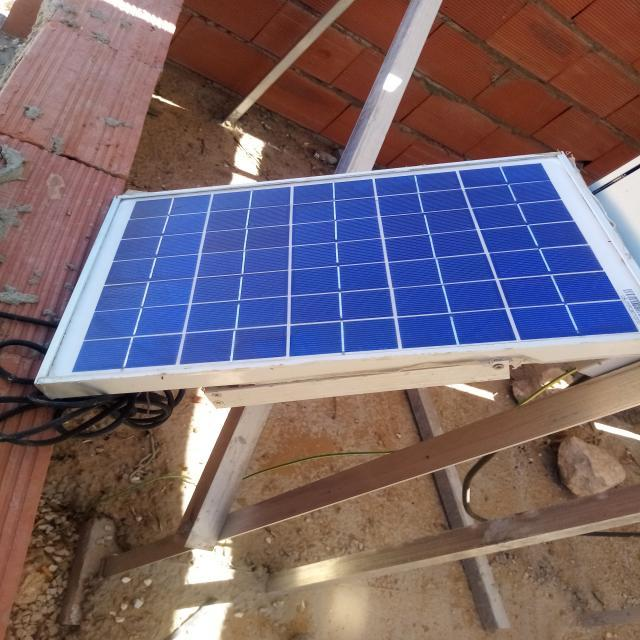no faulty: (40, 142, 639, 379)
